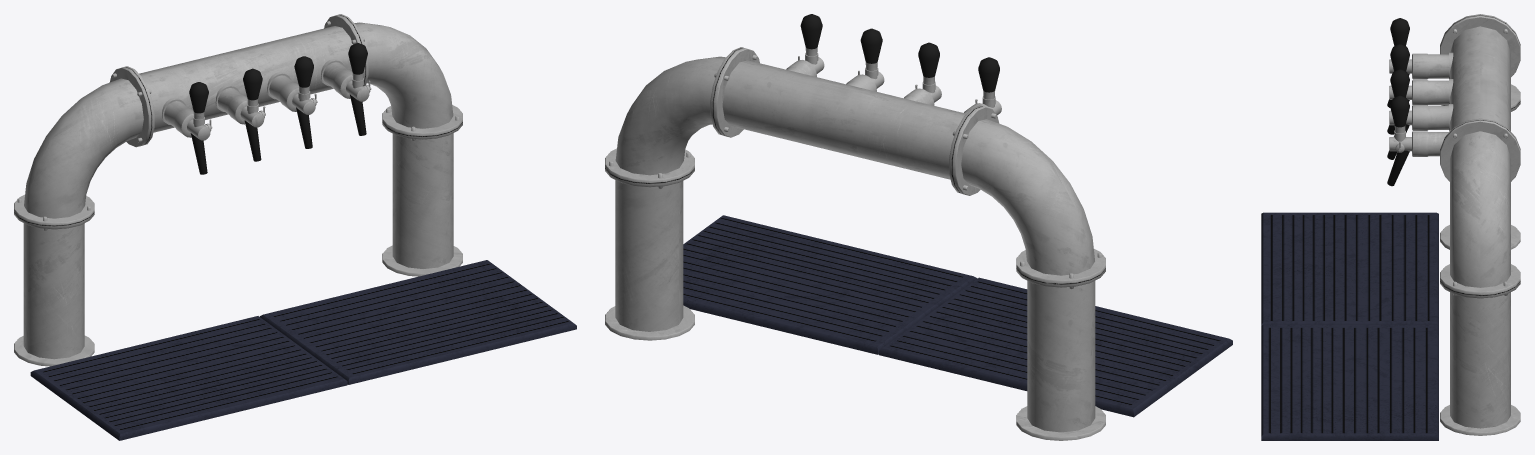
Rendered from BeerDispenser01.FBX.
3 views of the same model, side by side, from view 1: azimuth 30°, elevation 25°; view 2: azimuth 150°, elevation 25°; view 3: azimuth 270°, elevation 25° (orthographic). The views are drawn at different scales.
Parts seen in each view (by area): view 1: BeerDispenser01; view 2: BeerDispenser01; view 3: BeerDispenser01.
Part boxes in pixels (x1,y1,x2,y2): BeerDispenser01: [14, 14, 576, 440]; BeerDispenser01: [605, 14, 1232, 440]; BeerDispenser01: [1261, 14, 1520, 440].
Bounding box in the file's own units: 86.76 × 49.16 × 42.59.
